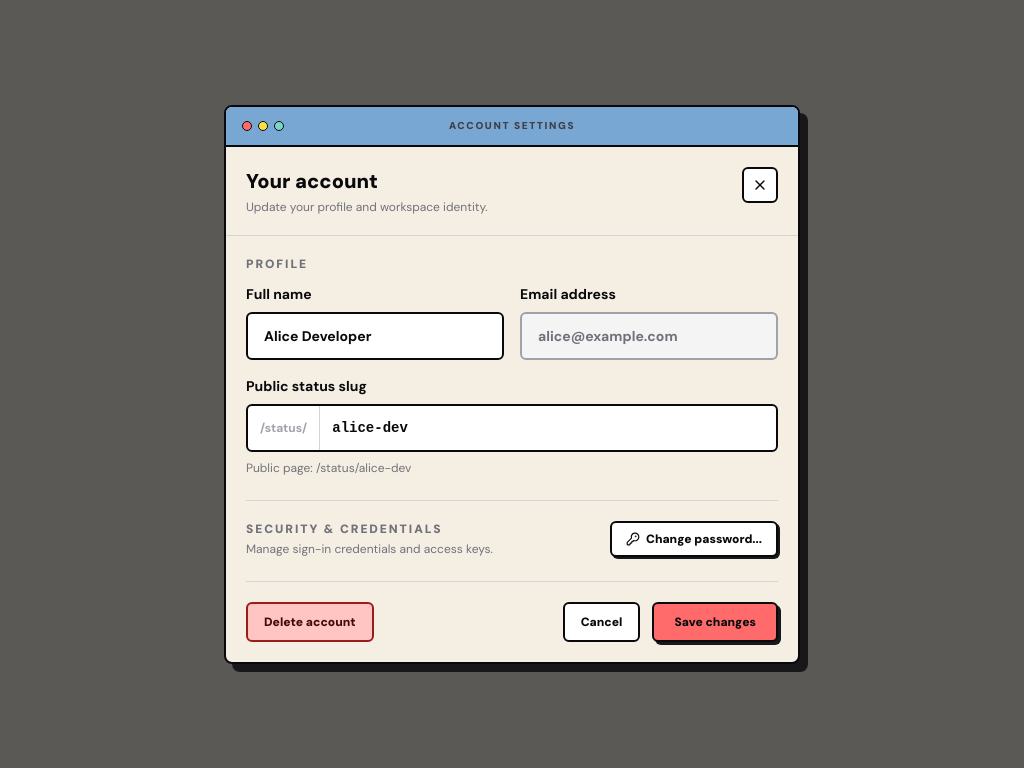
Test: AccountSettingsModal Component › should switch to Change Password sub-view and allow navigating back
Click the button "Change password..." at (694, 538), box [610,520,778,556]
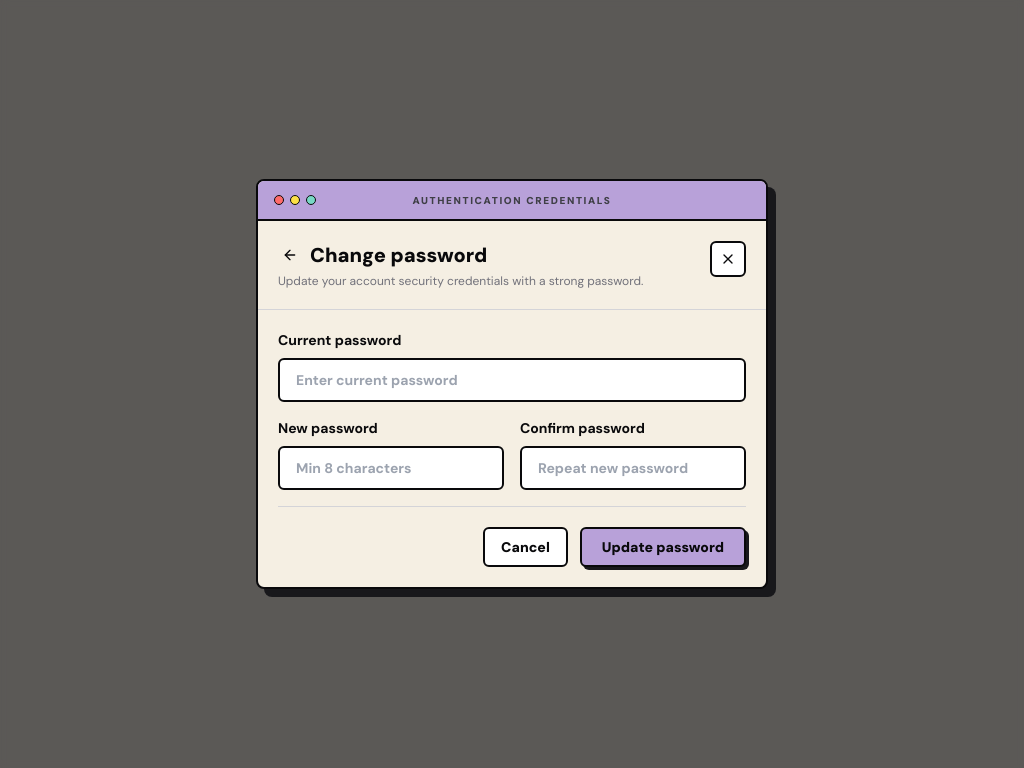
Check: the password field labelled "New password" is shown, box [278,446,504,490]
Check: the password field labelled "Current password" is shown, box [278,358,746,402]
Click the button named "back to profile" at (290, 255), box [278,243,302,267]
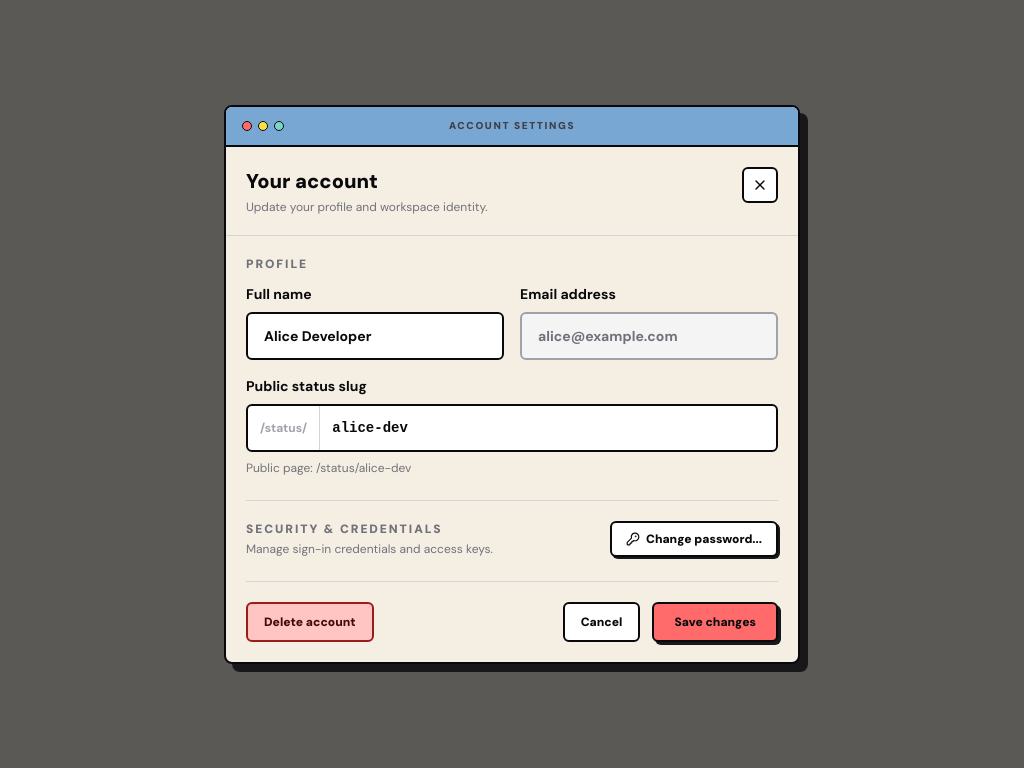
Check: the heading "Your account" is shown, box [246,168,378,194]
